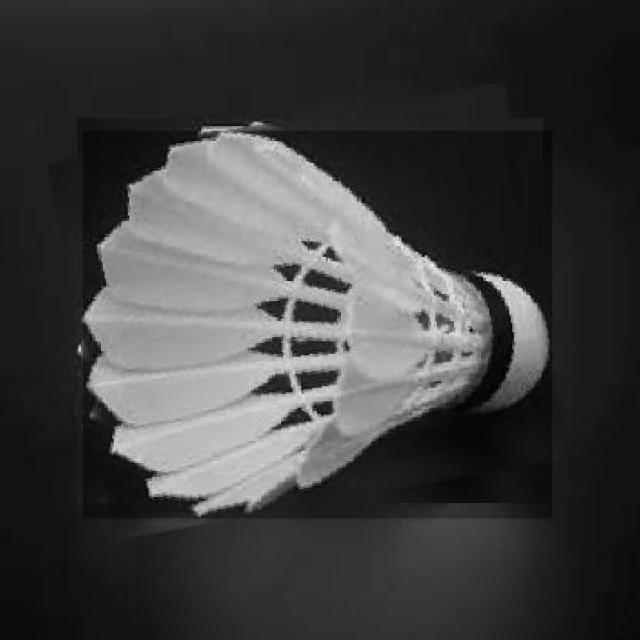Shuttlecock: (82, 130, 551, 517)
